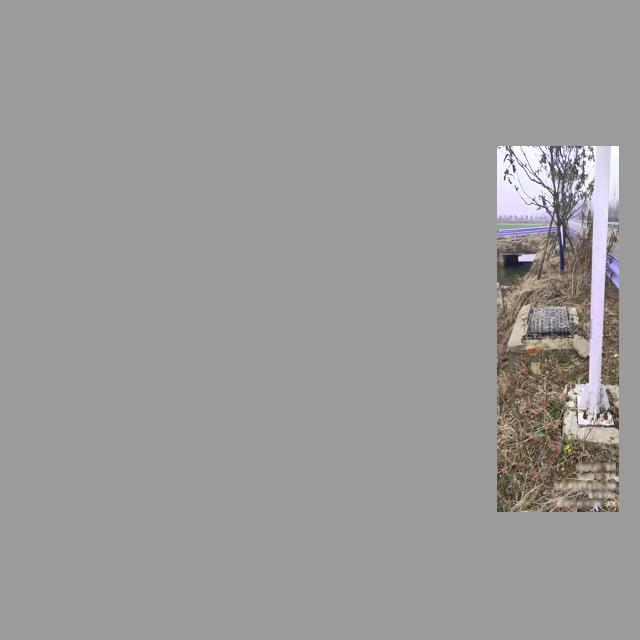good: (524, 301, 573, 340)
